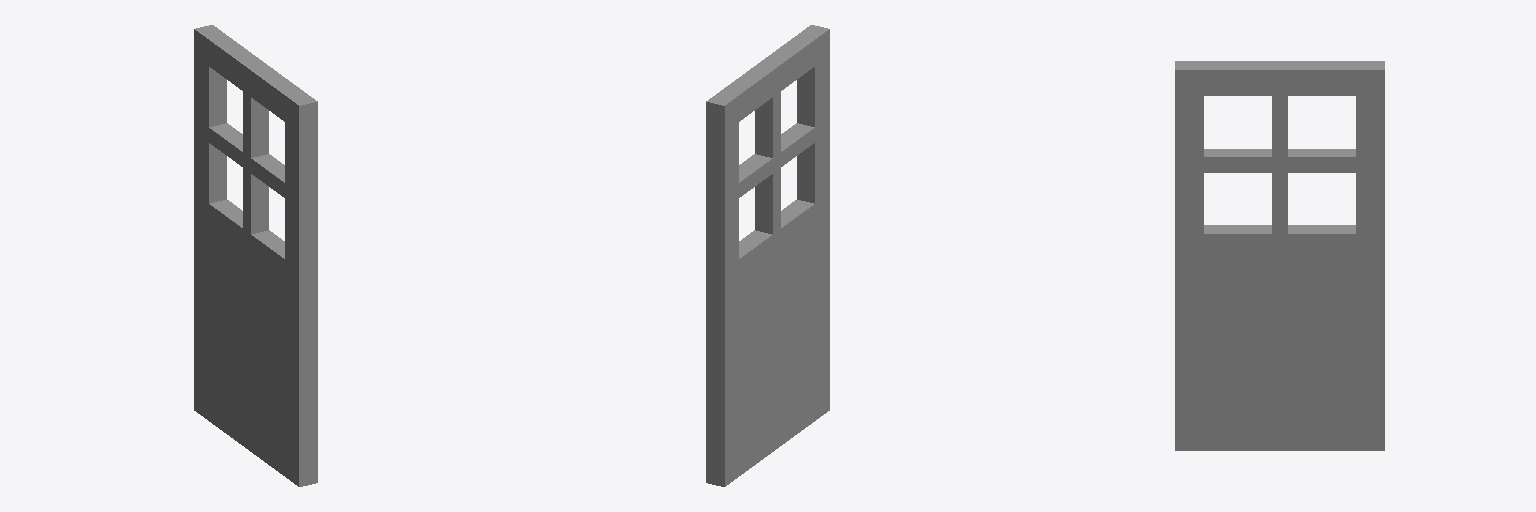
Rendered from doorOpen.obj.
3 views of the same model, side by side, from view 1: azimuth 30°, elevation 25°; view 2: azimuth 150°, elevation 25°; view 3: azimuth 270°, elevation 25° (orthographic).
Parts seen in each view (by area): view 1: Cube; view 2: Cube; view 3: Cube.
Part boxes in pixels (x1,y1,x2,y2): Cube: (194,25,317,486); Cube: (706,25,829,486); Cube: (1175,61,1384,450).
Size of the model in its own units: 0.1 by 2 by 1.